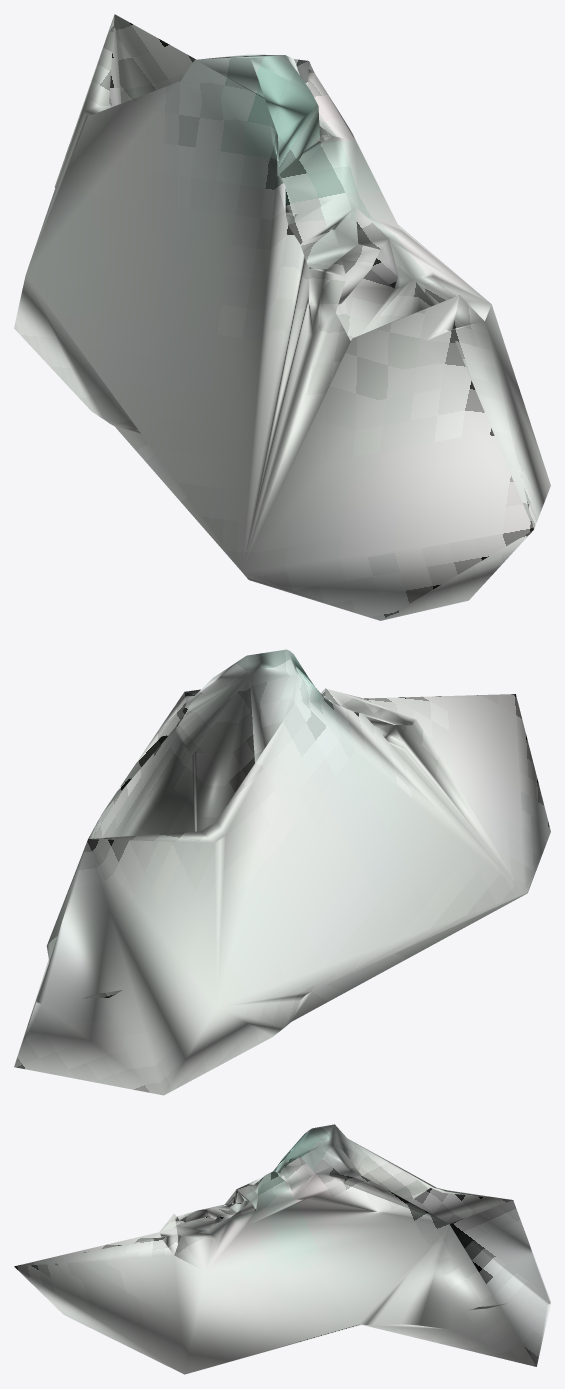
File: Reebok_TRIPLE_BREAK_LITE-low.glb
3 renders of one model, top to bottom at view 1: azimuth 30°, elevation 25°; view 2: azimuth 150°, elevation 25°; view 3: azimuth 270°, elevation 25°, orthographic. The views are drawn at different scales.
Parts seen in each view (by area): view 1: Reebok_TRIPLE_BREAK_LITE; view 2: Reebok_TRIPLE_BREAK_LITE; view 3: Reebok_TRIPLE_BREAK_LITE.
Part boxes in pixels (bbox=[...]): Reebok_TRIPLE_BREAK_LITE: bbox=[14, 14, 550, 620]; Reebok_TRIPLE_BREAK_LITE: bbox=[14, 649, 550, 1095]; Reebok_TRIPLE_BREAK_LITE: bbox=[14, 1124, 550, 1374].
Bounding box in the file's own units: 0.0963 × 0.112 × 0.2582.
1 material, 1 textured.
